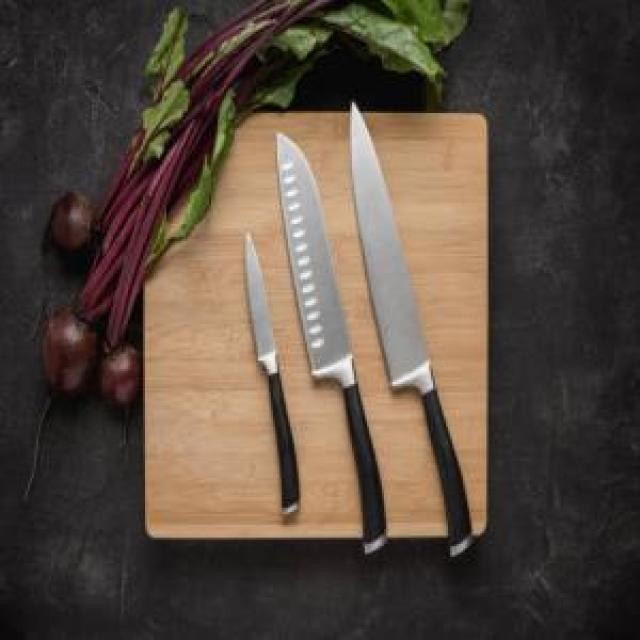knife: (348, 98, 479, 558), (275, 130, 392, 555), (245, 226, 303, 514)
